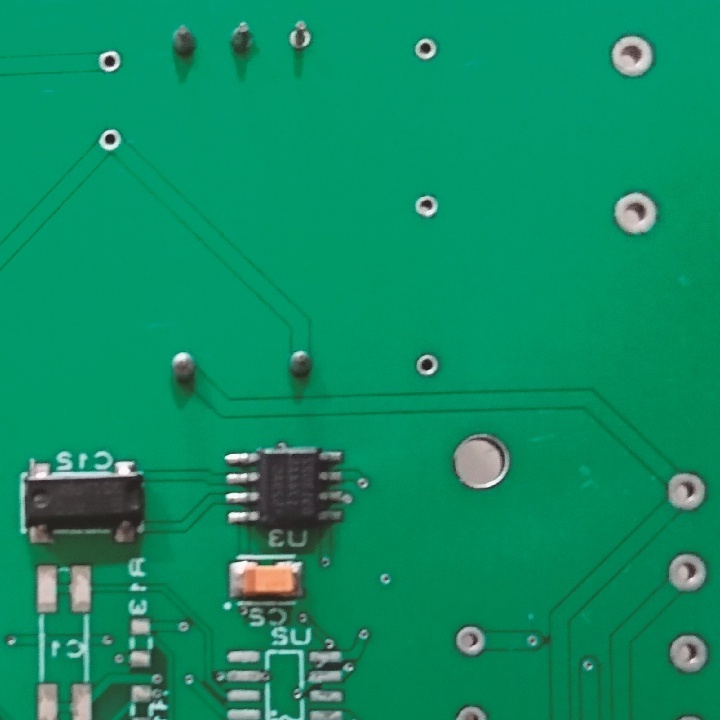F: (609, 189, 664, 236), (607, 32, 655, 80), (662, 469, 710, 515), (663, 627, 707, 677), (665, 549, 707, 599), (450, 622, 487, 658), (285, 20, 319, 55), (413, 352, 442, 379), (410, 37, 439, 63), (413, 194, 442, 220), (99, 47, 122, 78), (96, 124, 122, 151)
